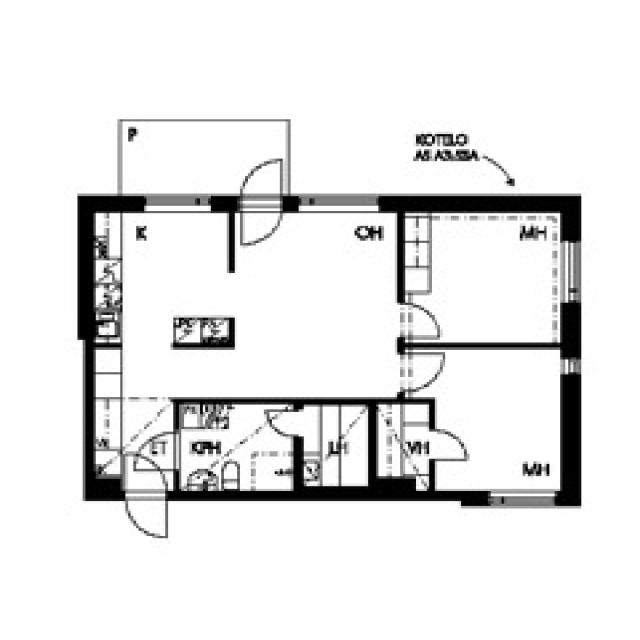door: (375, 402, 435, 488), (235, 156, 285, 248), (122, 468, 172, 538), (396, 348, 446, 394), (136, 428, 182, 473), (392, 297, 441, 339), (424, 424, 469, 465), (269, 409, 303, 439)
window: (291, 189, 386, 217), (479, 486, 561, 514), (136, 190, 219, 217), (558, 237, 584, 310), (558, 354, 584, 380)
zone: (410, 342, 570, 498), (398, 212, 570, 346), (87, 204, 234, 353), (179, 404, 298, 494), (297, 402, 371, 494), (374, 400, 435, 490)
